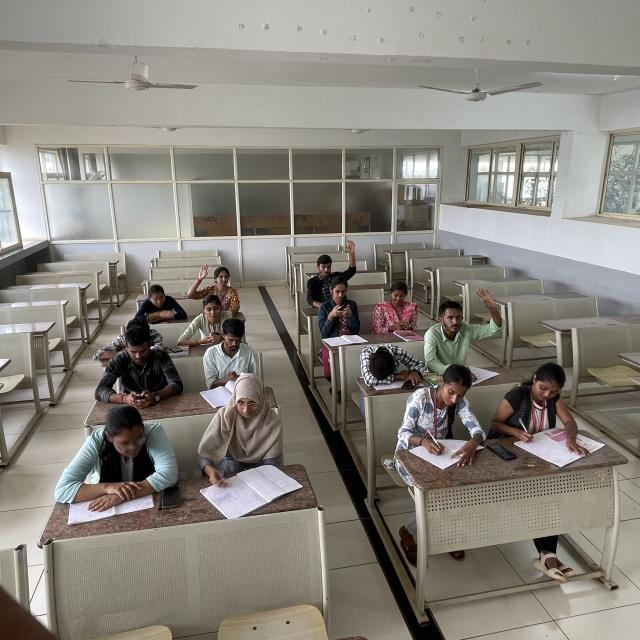Hand Rising: (424, 284, 503, 363), (308, 240, 360, 304), (187, 261, 241, 310)
Sleeping: (361, 344, 428, 387)
Using Phone: (96, 326, 185, 404), (180, 294, 228, 347), (319, 278, 362, 335), (372, 284, 420, 334)
Writing: (194, 382, 292, 508), (494, 358, 592, 454), (398, 367, 487, 468)
